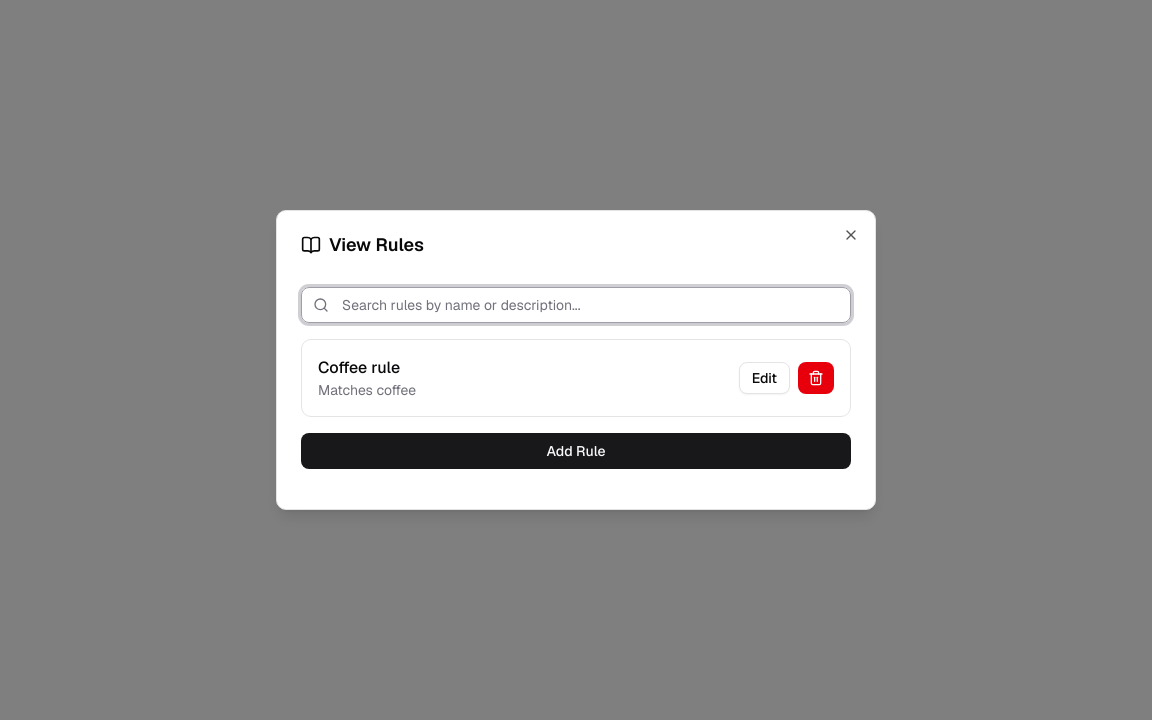
Test: ViewRulesModal › opens the add rule dialog
expect the text "Coffee rule" is shown: met, box [318,357,400,378]
Click the button "Add Rule": (576,451) [301,433,851,469]
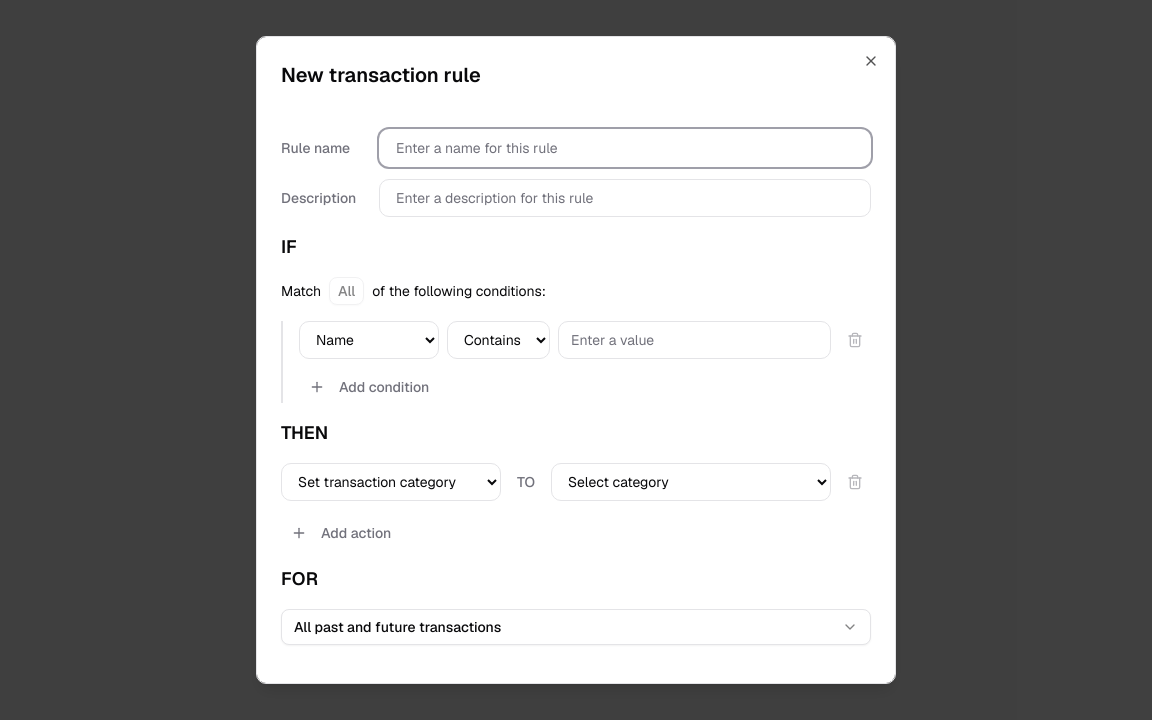
expect the dialog "New transaction rule" is shown: met, box [256,36,896,684]
